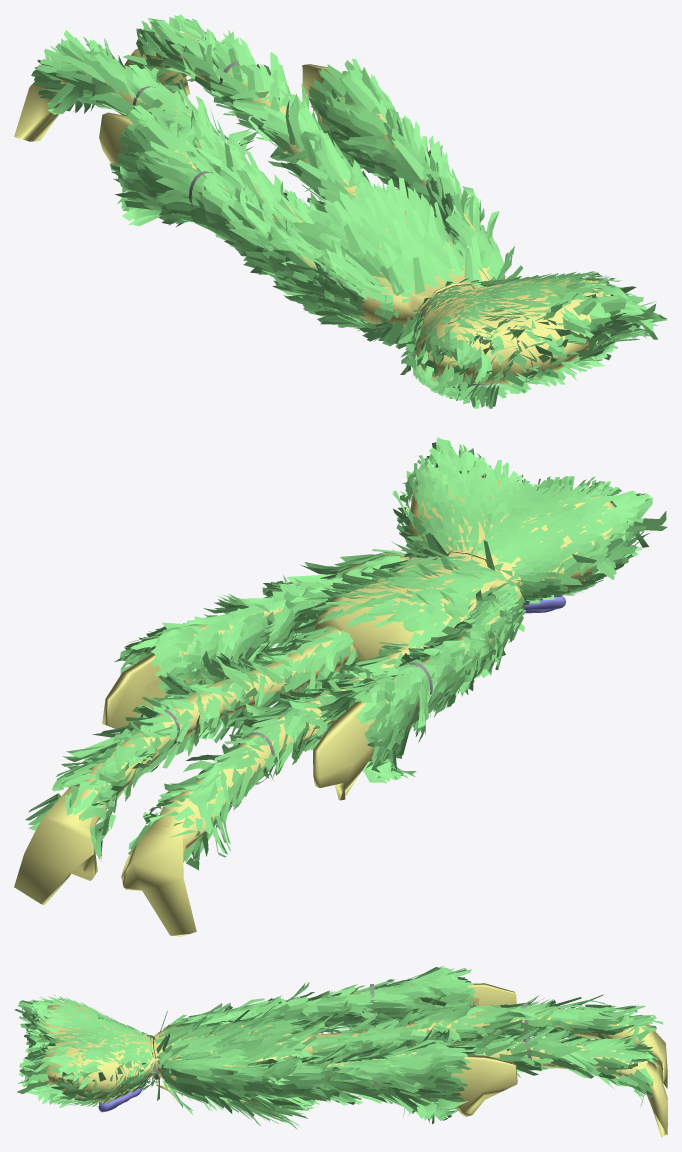
File: Huggy Wuggy Toy.fbx
3 views of the same model, one above another, from view 1: azimuth 30°, elevation 25°; view 2: azimuth 150°, elevation 25°; view 3: azimuth 270°, elevation 25° (orthographic). The views are drawn at different scales.
Visible parts, largest first — view 1: BoxHuggy_B; view 2: BoxHuggy_B; view 3: BoxHuggy_B.
Boxes of the visible parts, x1,y1,x2,y2 form: BoxHuggy_B: [14, 14, 667, 408]; BoxHuggy_B: [14, 437, 667, 936]; BoxHuggy_B: [14, 966, 667, 1137].
Bounding box in the file's own units: 15.82 × 8.02 × 42.89.
